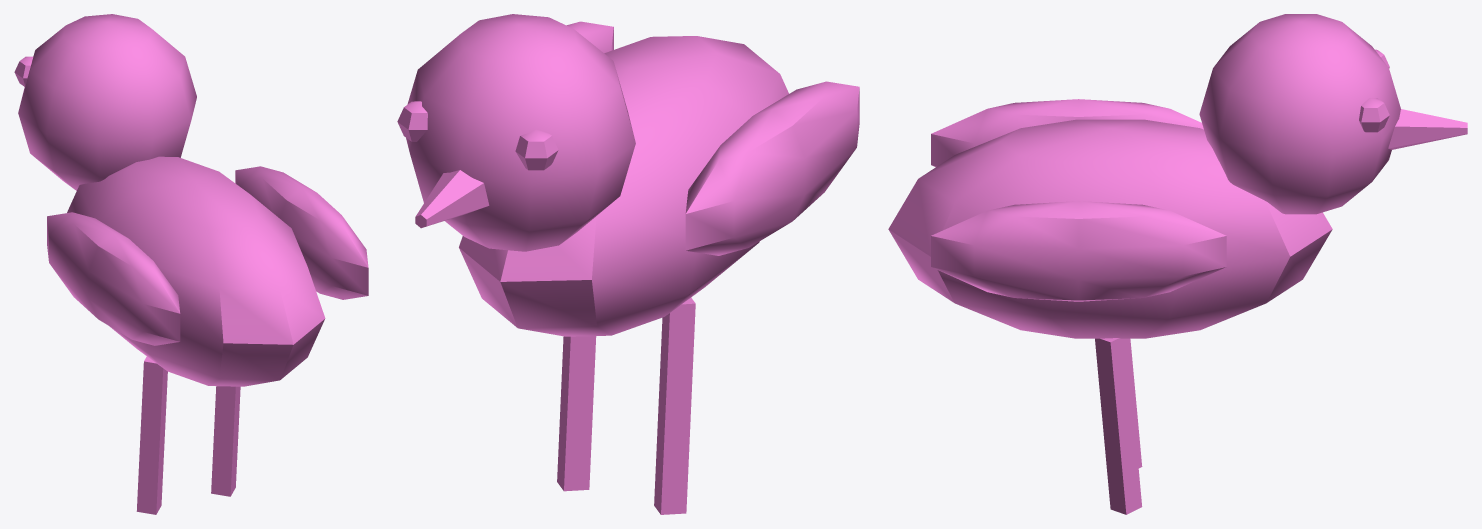
The model's file is Bird_Seagull.fbx.
3 renders of one model, left to right at view 1: azimuth 30°, elevation 25°; view 2: azimuth 150°, elevation 25°; view 3: azimuth 270°, elevation 25°, orthographic. The views are drawn at different scales.
Parts seen in each view (by area): view 1: Seagull; view 2: Seagull; view 3: Seagull.
Part boxes in pixels (bbox=[...]): Seagull: bbox=[14, 14, 368, 514]; Seagull: bbox=[397, 14, 859, 514]; Seagull: bbox=[888, 14, 1467, 514].
Bounding box in the file's own units: 0.9597 × 1.62 × 1.83.
1 material, 1 textured.
